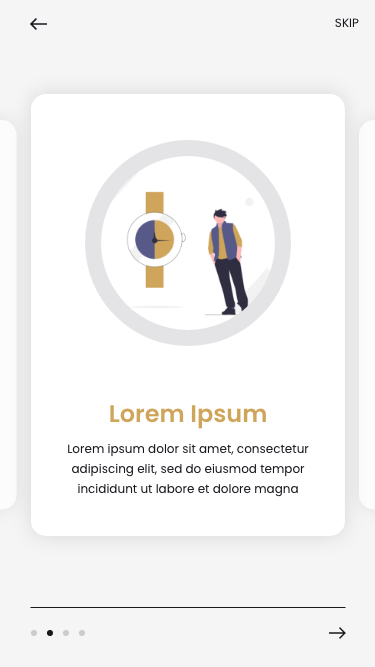Card: (31, 94, 346, 537)
Icon: (30, 18, 48, 31), (329, 627, 347, 639)
Image: (85, 140, 292, 347)
PageIndicator: (31, 629, 87, 637)
Text: (68, 443, 310, 497), (110, 405, 267, 430), (335, 18, 359, 29)
